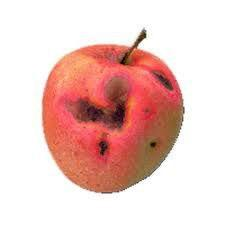Apple: (41, 44, 184, 194)
